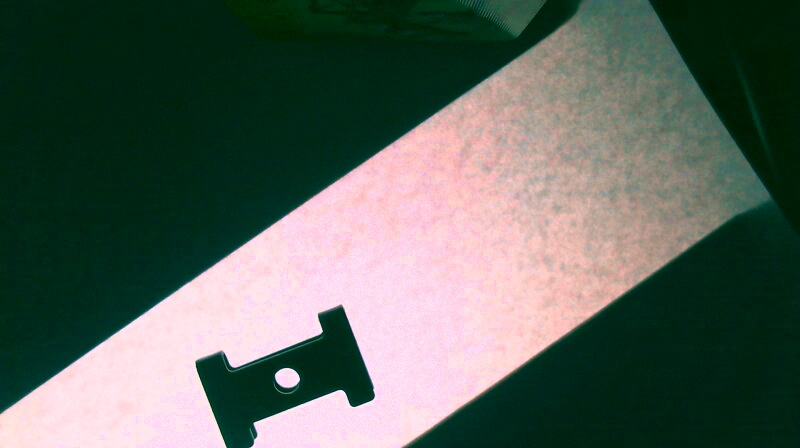O002: (200, 303, 377, 447)
